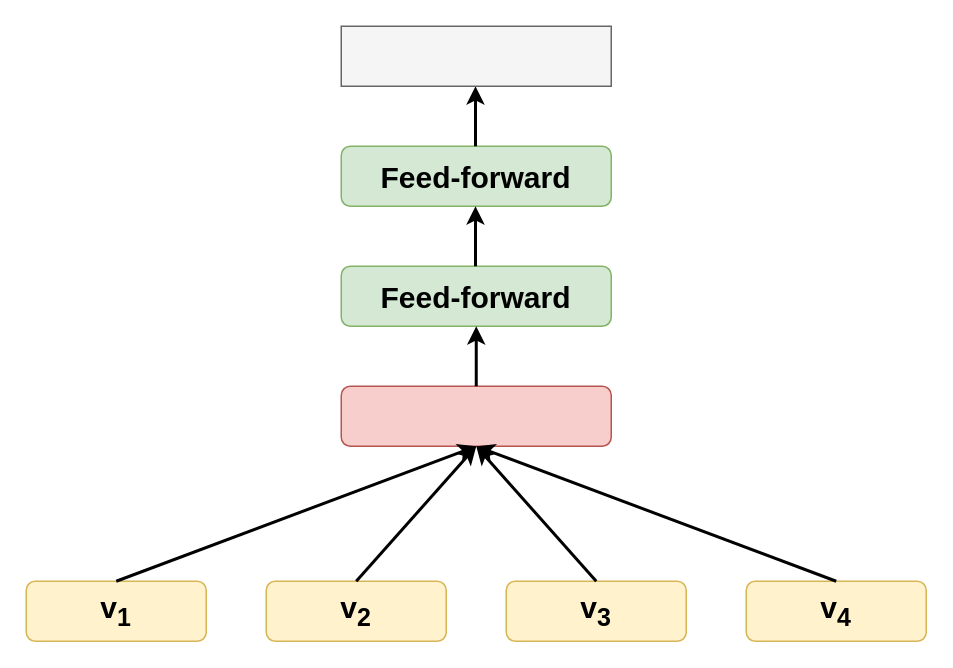
The diagram is 953 pixels wide and 668 high, and some of its shapes have lost their labels. The centre of each missing label's shape, as x and y in pixels:
AVG: pixel 475 415
Softmax: pixel 475 55
